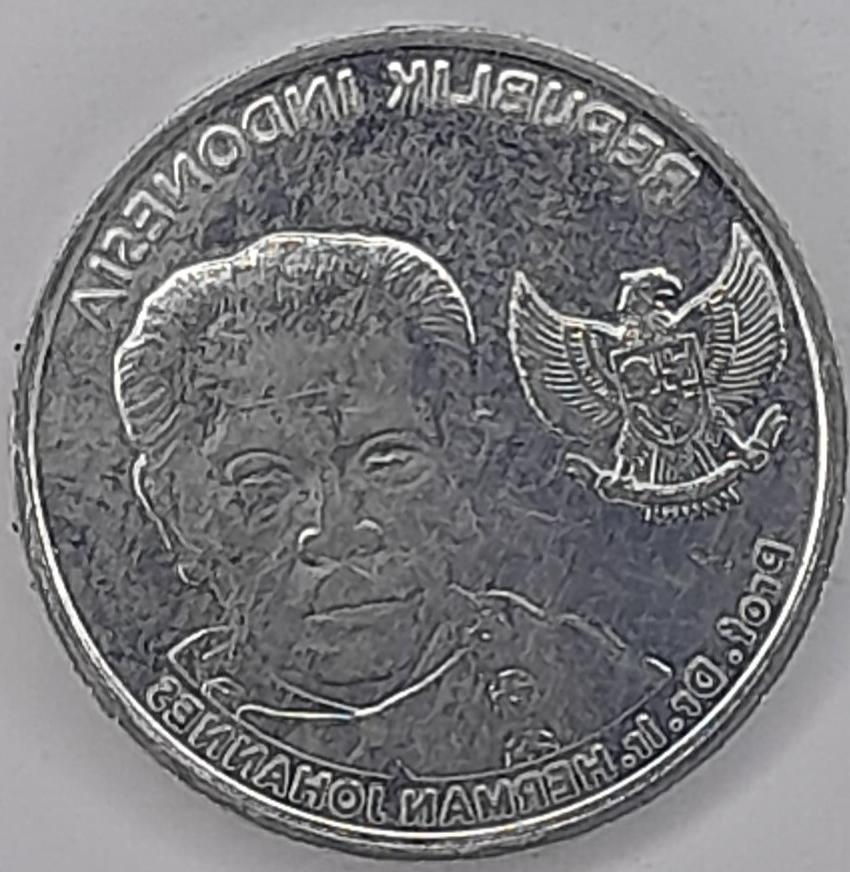coin_100_e2016: (3, 18, 849, 862)
